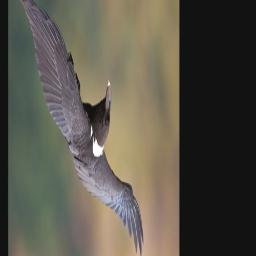Crow: (17, 0, 144, 256)
